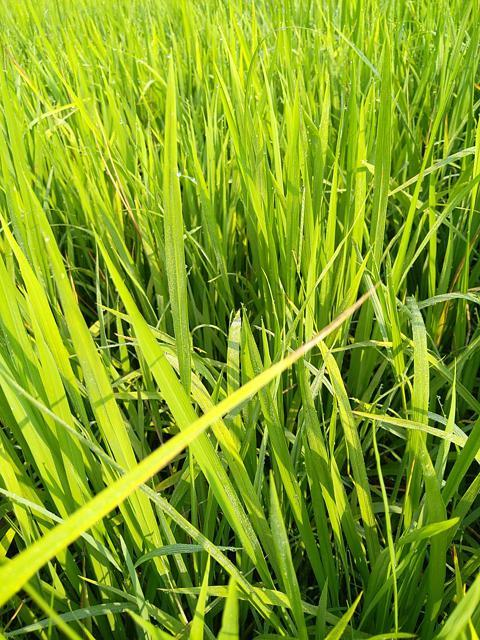Leaf Blight: (0, 291, 372, 608)
